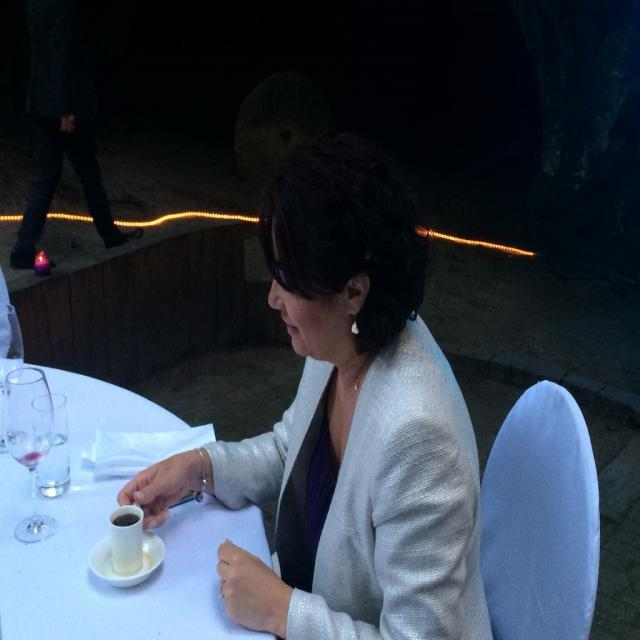Tea: (112, 515, 139, 527)
